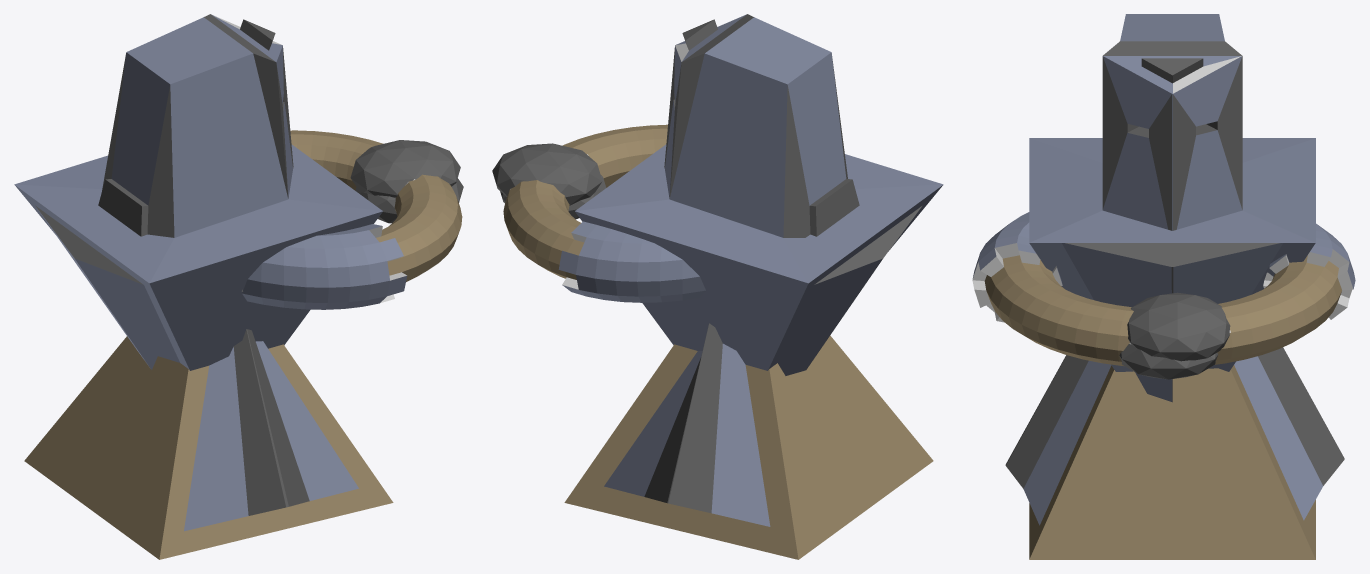
File: Heavy Creature.fbx
3 renders of one model, left to right at view 1: azimuth 30°, elevation 25°; view 2: azimuth 150°, elevation 25°; view 3: azimuth 270°, elevation 25°, orthographic. The views are drawn at different scales.
Parts seen in each view (by area): view 1: Torus; view 2: Torus; view 3: Torus.
Boxes of the visible parts, <box> form: Torus: <box>14,14,463,559</box>; Torus: <box>492,14,943,559</box>; Torus: <box>972,14,1355,559</box>.
Size of the model in its own units: 81.18 by 90.13 by 66.84.
